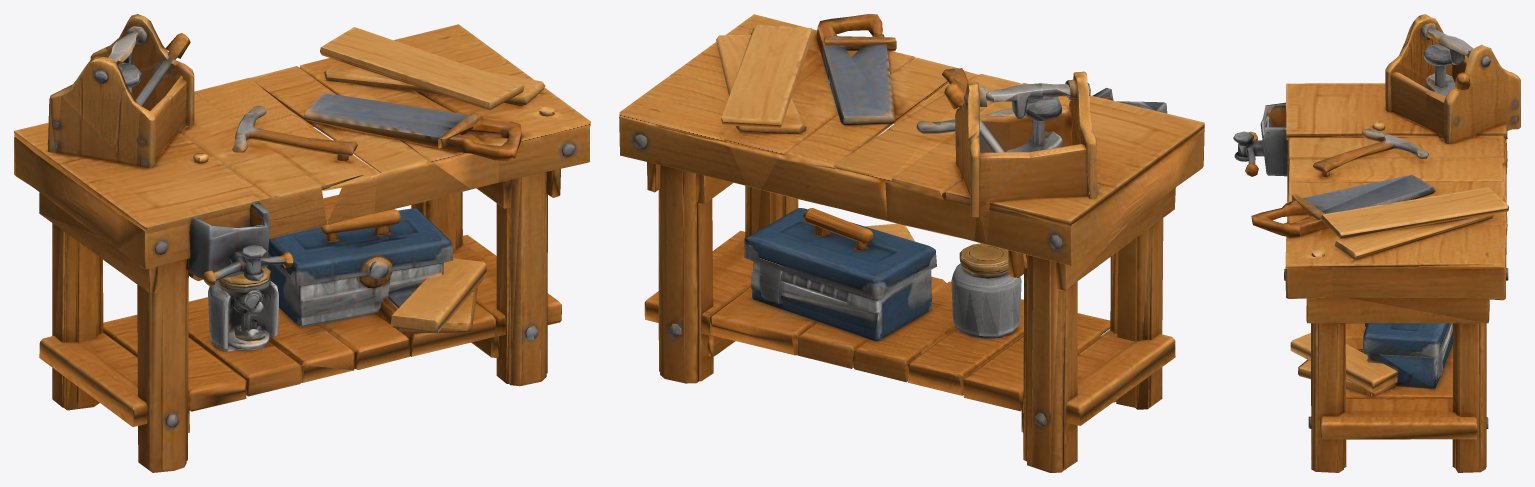
Rendered from workbench.glb.
3 views of the same model, side by side, from view 1: azimuth 30°, elevation 25°; view 2: azimuth 150°, elevation 25°; view 3: azimuth 270°, elevation 25° (orthographic). The views are drawn at different scales.
Bounding box in the file's own units: 1 × 0.7832 × 0.6758.
1 material, 1 textured.
